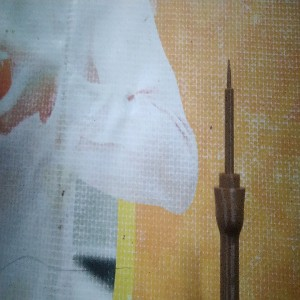solder: (214, 59, 246, 300)
